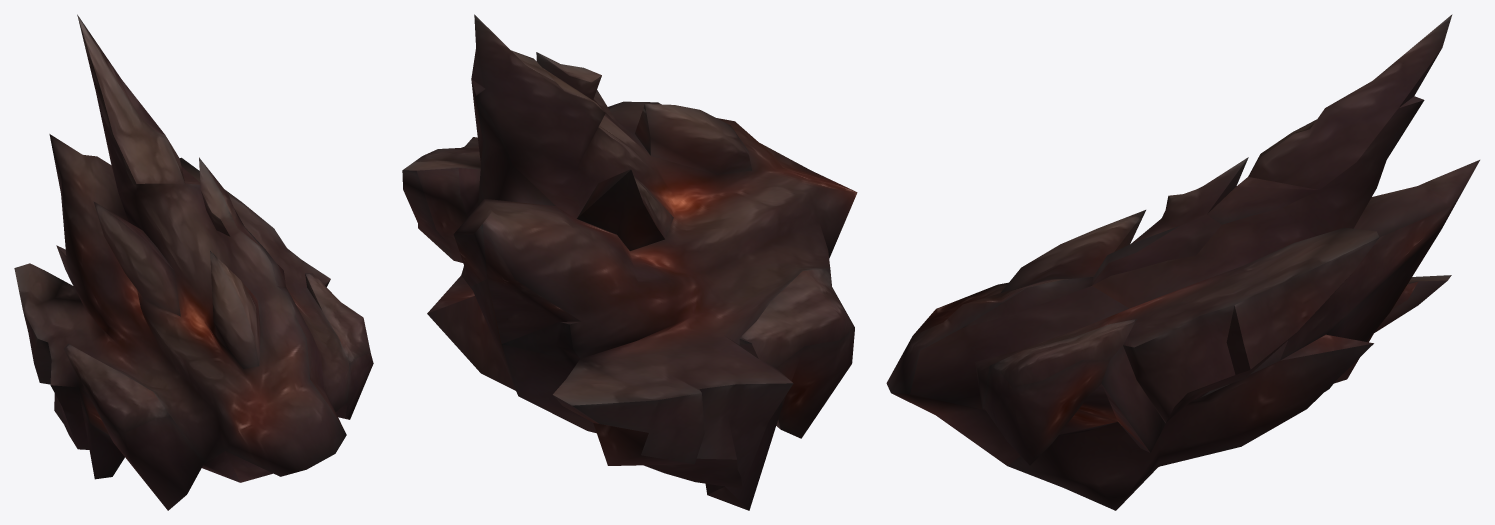
The model's file is 1005_Item_Stone_03.FBX.
3 renders of one model, left to right at view 1: azimuth 30°, elevation 25°; view 2: azimuth 150°, elevation 25°; view 3: azimuth 270°, elevation 25°, orthographic. The views are drawn at different scales.
Visible parts, largest first — view 1: 1005_Item_Stone_03; view 2: 1005_Item_Stone_03; view 3: 1005_Item_Stone_03.
Part boxes in pixels (x1,y1,x2,y2): 1005_Item_Stone_03: (14,14,373,510); 1005_Item_Stone_03: (402,14,857,510); 1005_Item_Stone_03: (886,14,1479,510).
Bounding box in the file's own units: 4566 × 6687 × 7660.
